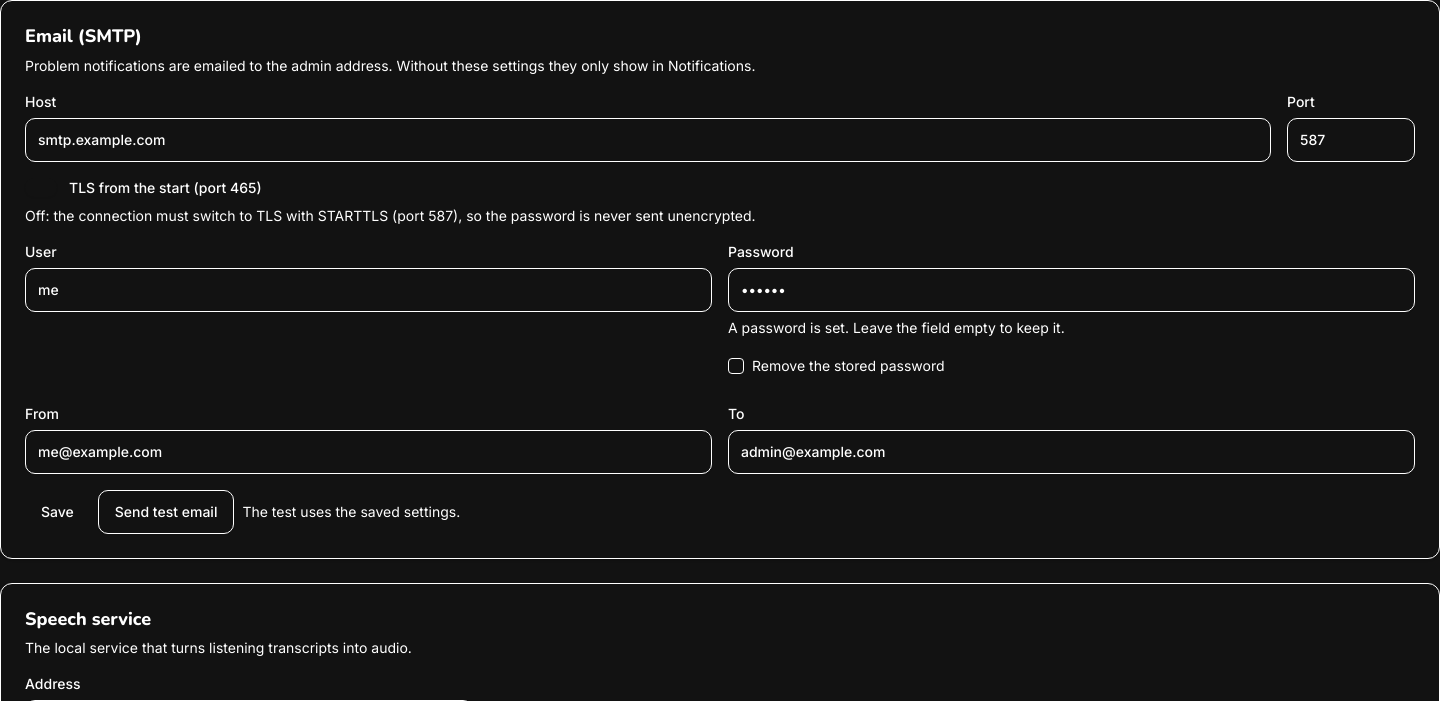
Test: SystemSettingsAdmin › sends a test email and shows the result inline
The width and height of the screenshot is (1440, 701).
Click the button "Send test email" at (166, 512), box [98, 490, 234, 534]
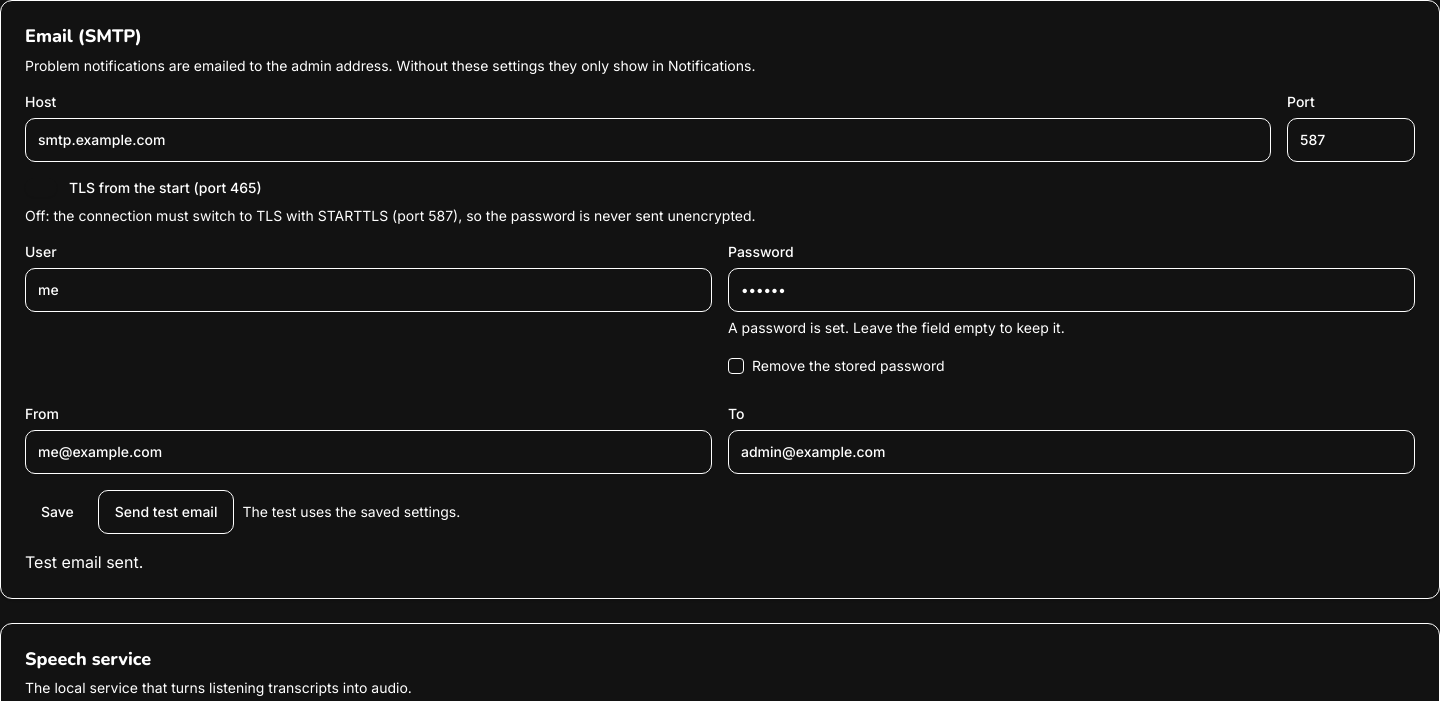
Expected: the message reads "Test email sent.", [25, 552, 143, 572]
Click the button "Send test email" at (166, 512), box [98, 490, 234, 534]
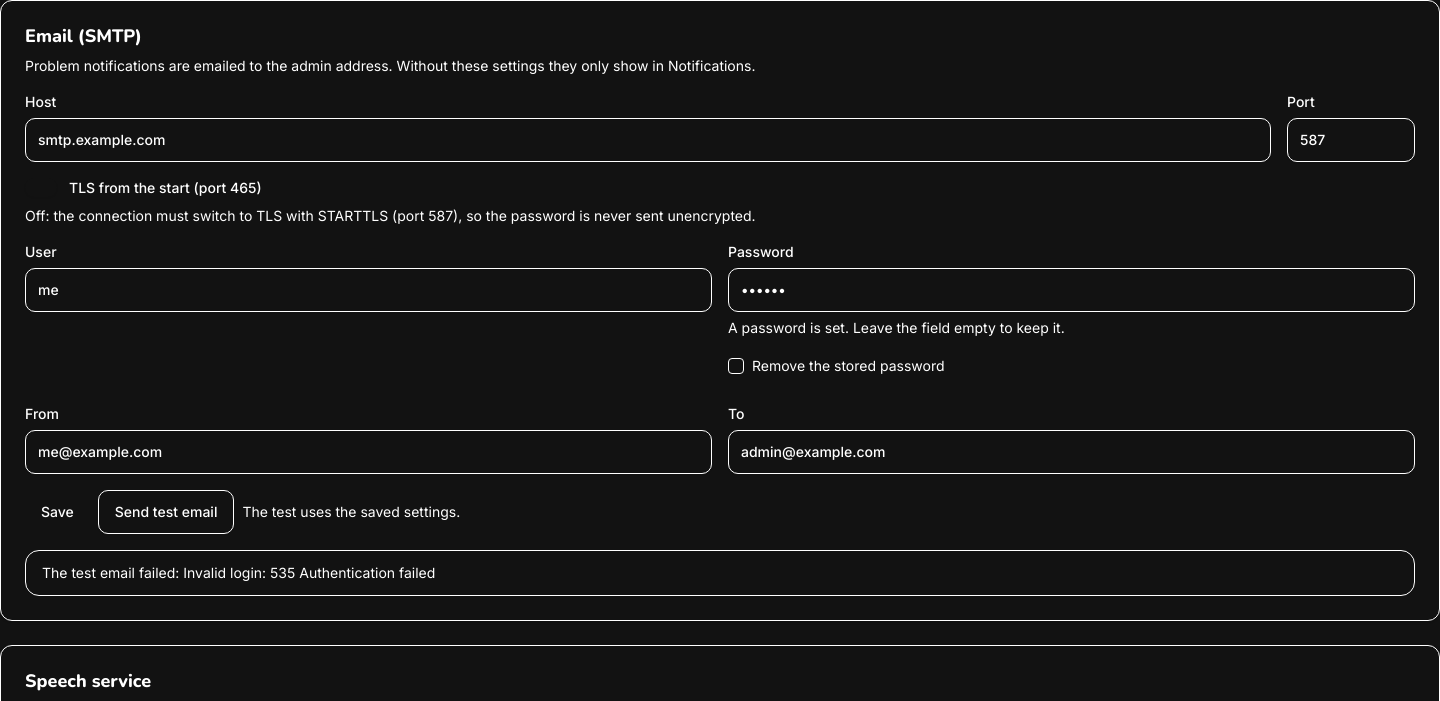
Expected: the message reads "The test email failed: Invalid login: 535 Authentication failed", [25, 550, 1415, 596]
